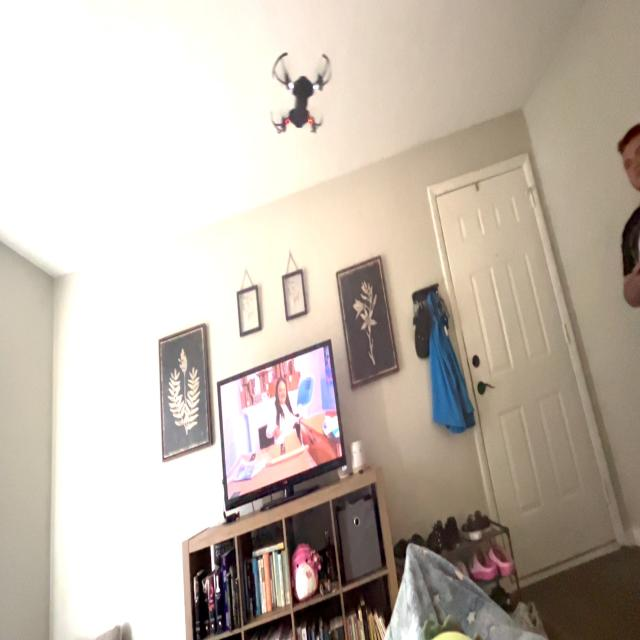drone: (266, 42, 336, 150)
